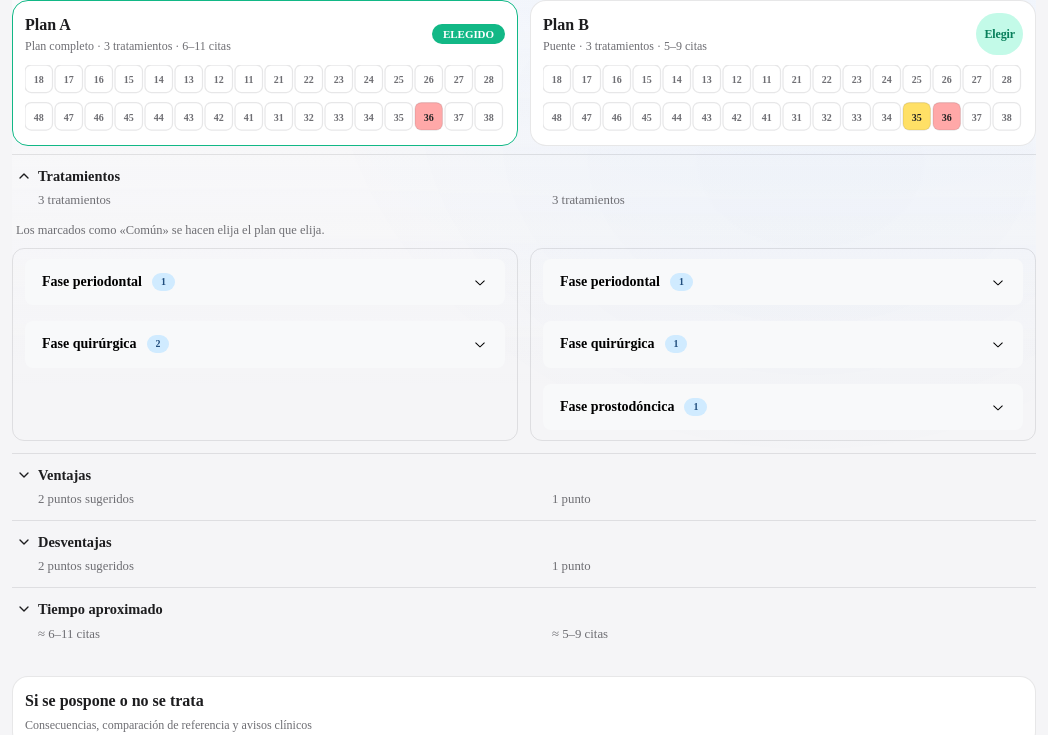
it: PlanAlternativesBoard › marks the treatments every plan shares as common
Step 1. Click the 2nd button "Fase periodontal 1" → [610, 282], box x1=544 y1=260 x2=1022 y2=304
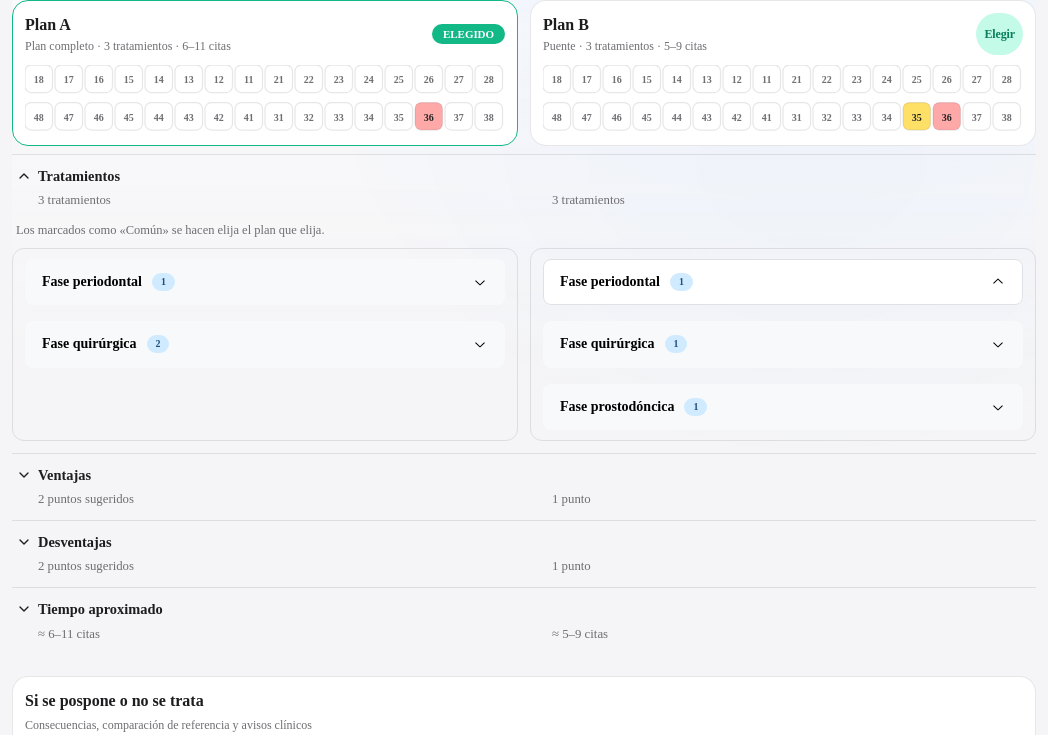
Step 2. Click the button "Fase quirúrgica 1" → [607, 344], box x1=544 y1=322 x2=1022 y2=367
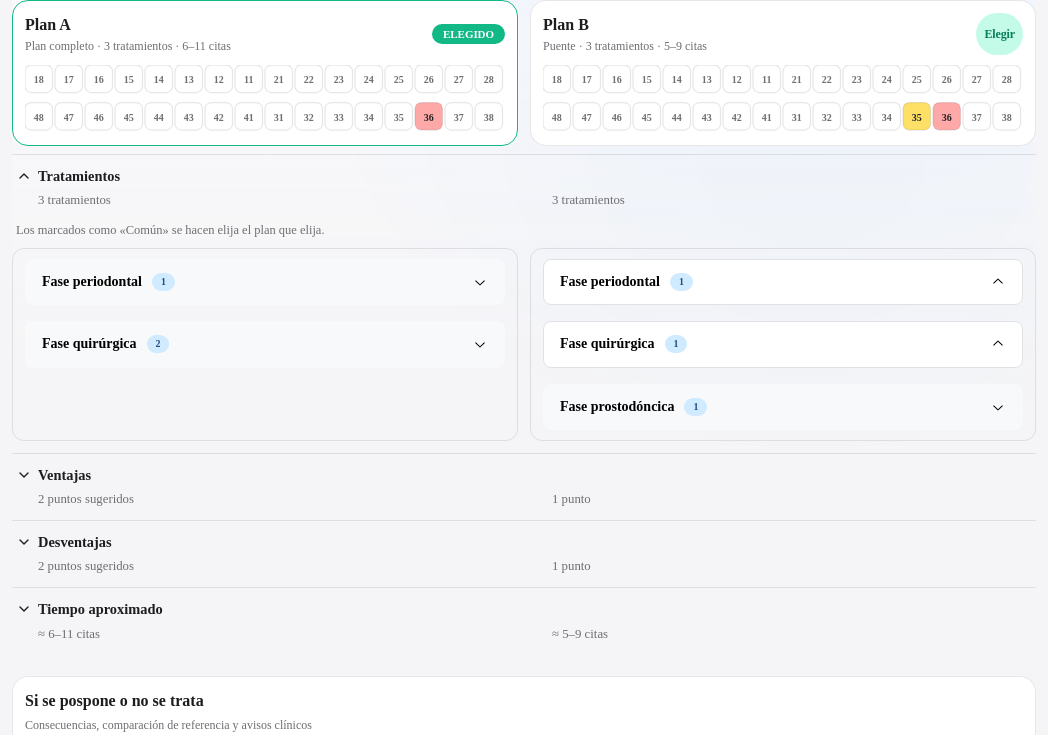
Step 3. Click the button "Fase prostodóncica 1" → [617, 406], box x1=544 y1=385 x2=1022 y2=429
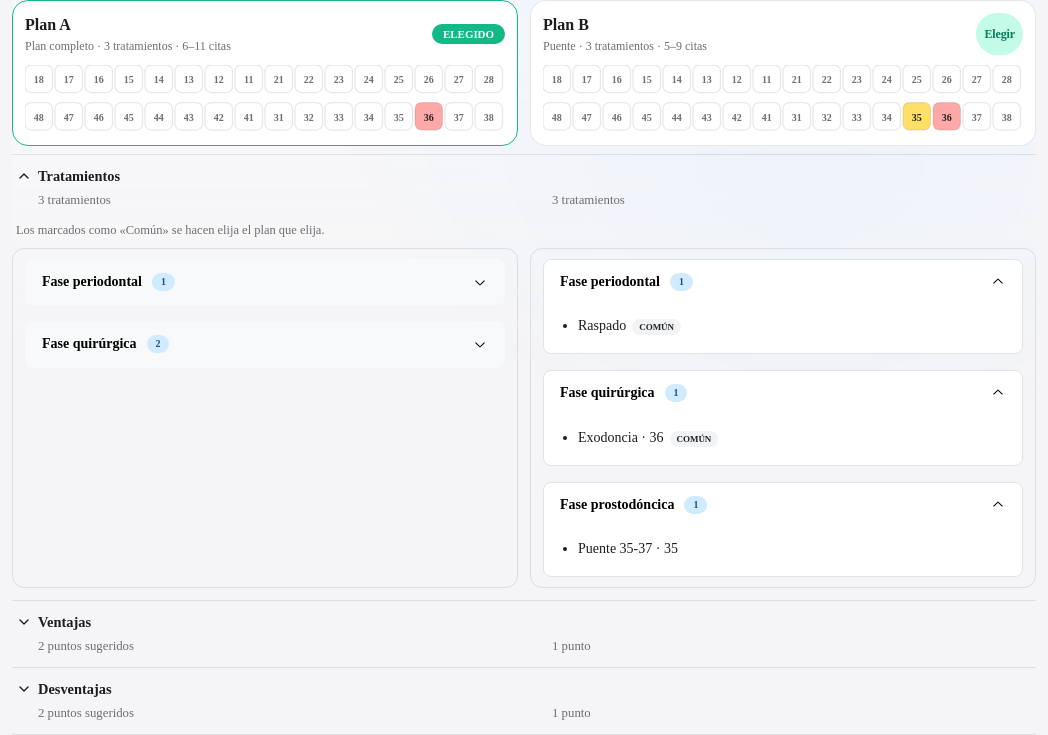
Expected: the list item "Puente 35-37 · 35" does not show "Común", x1=578 y1=541 x2=678 y2=556
Expected: the list item "Raspado Común" is shown, x1=578 y1=318 x2=681 y2=335
